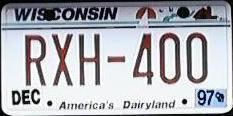placa de veiculo: (5, 2, 232, 115)
